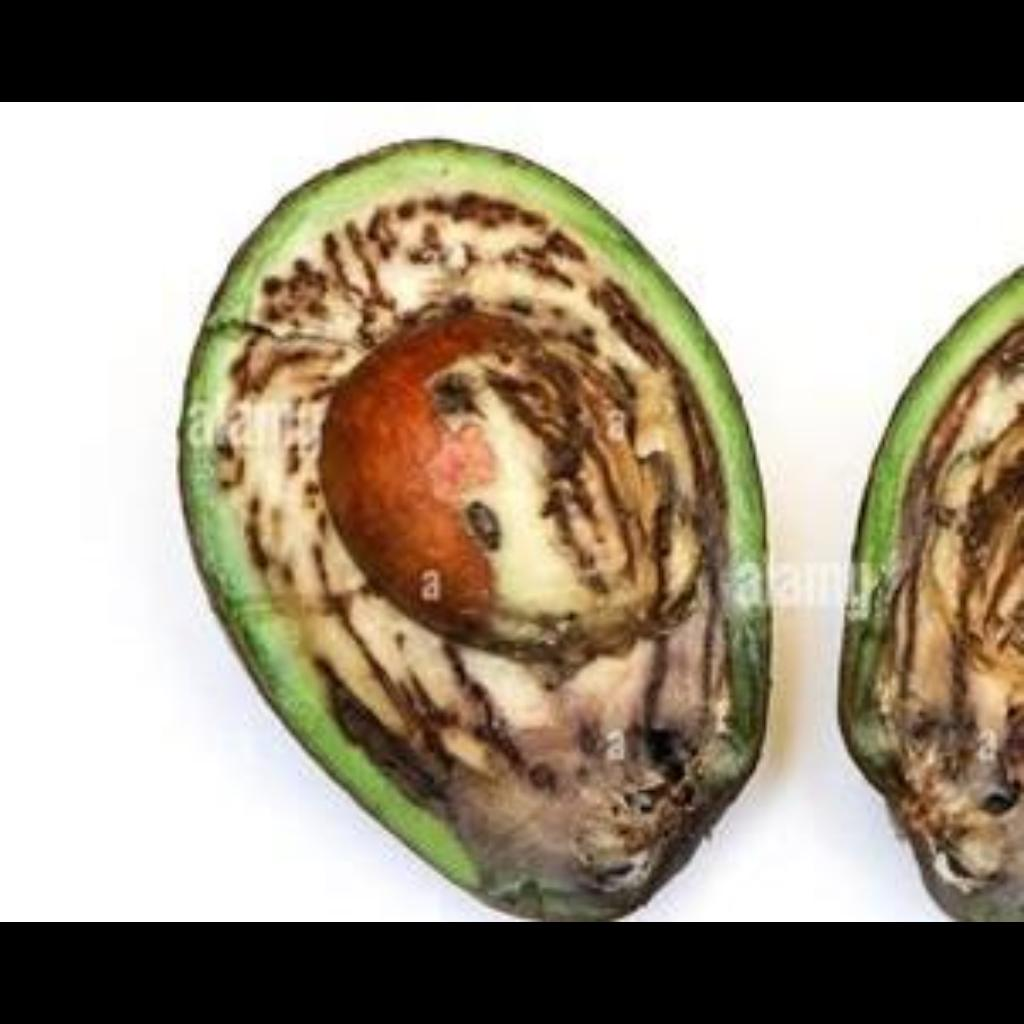Anthracnose: (156, 148, 800, 908)
